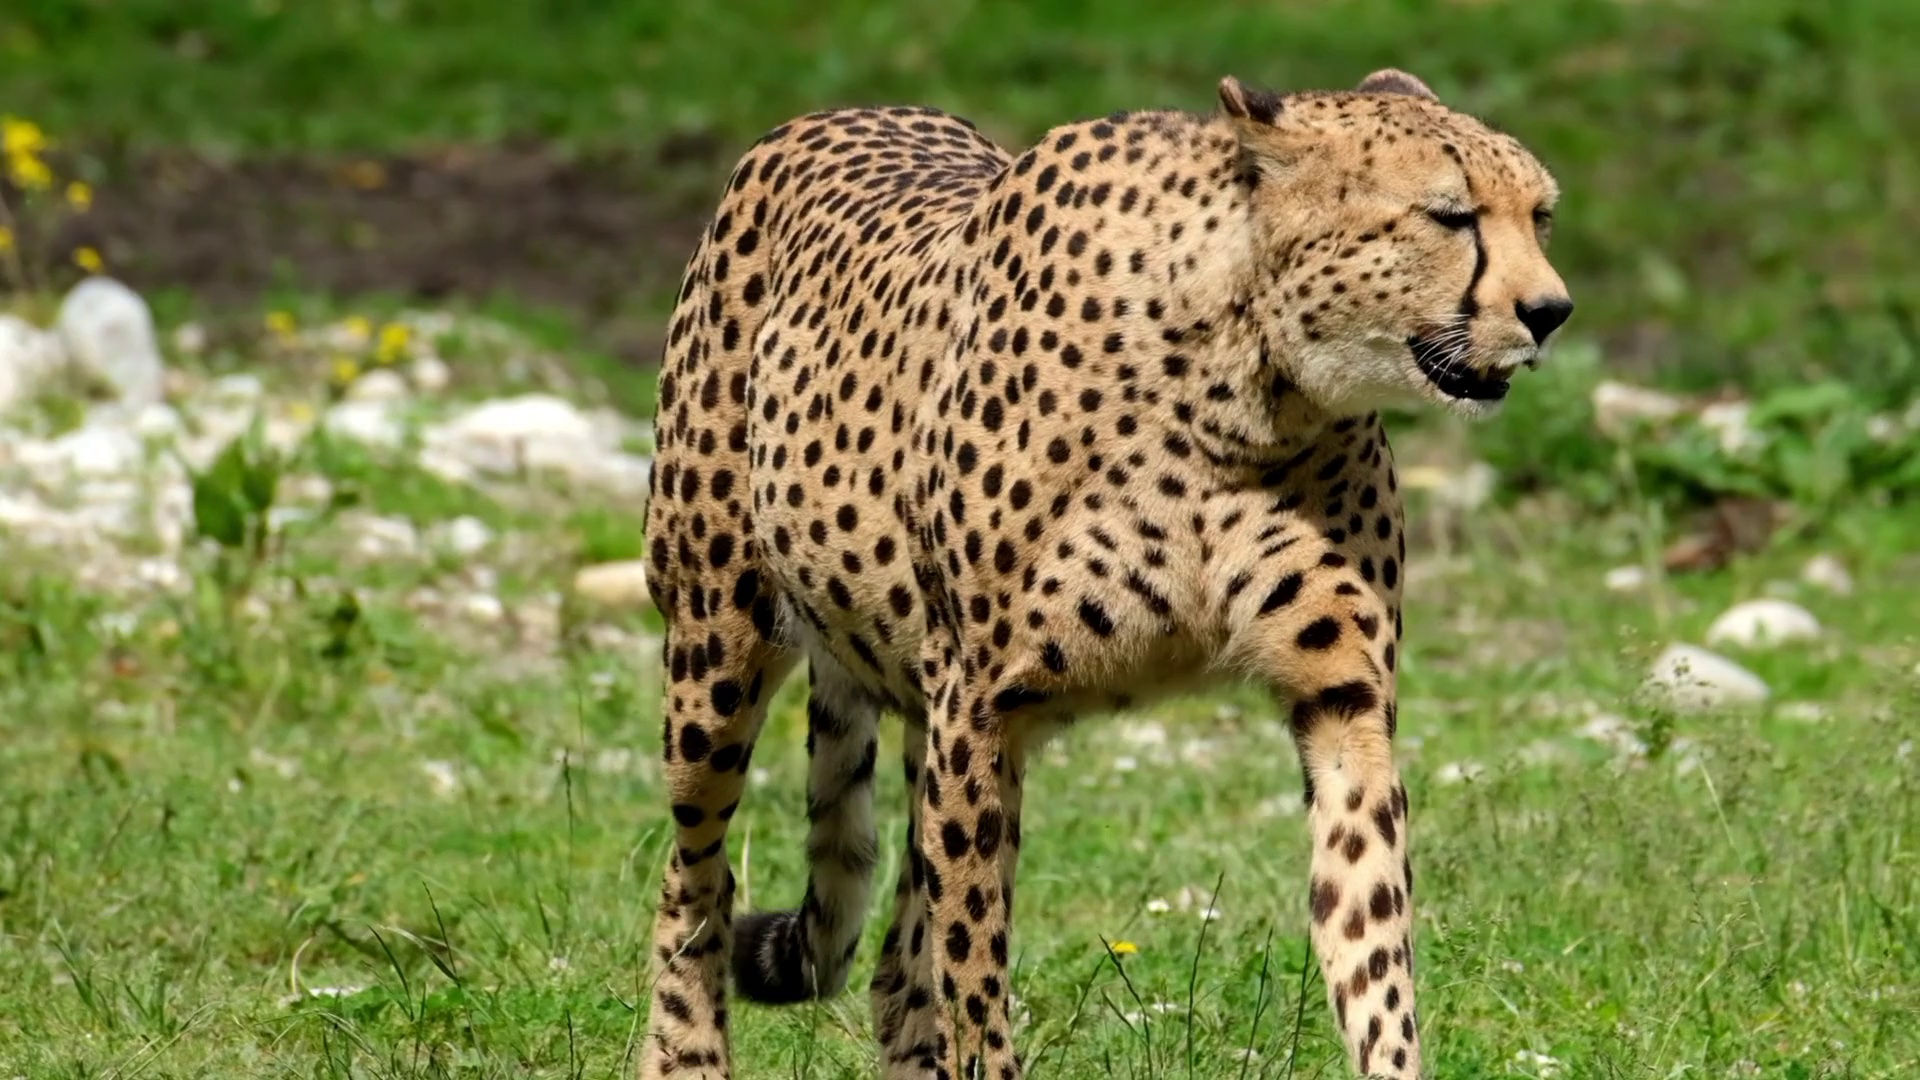Cheetah: (640, 61, 1578, 1080)
